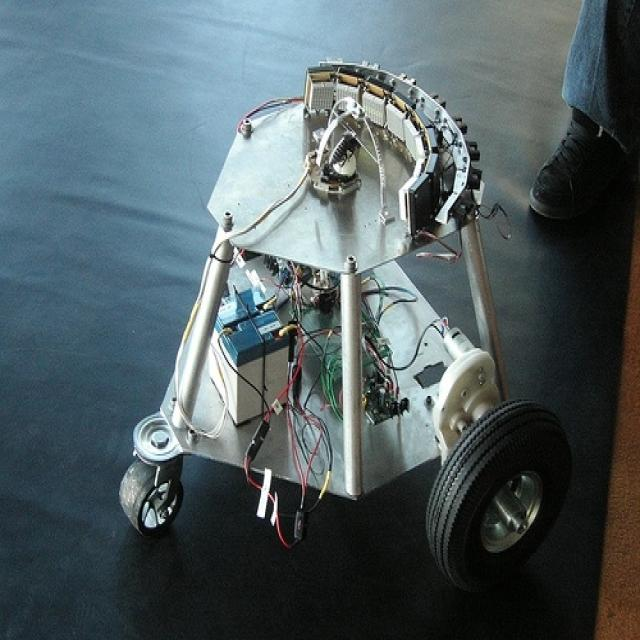E-waste: (113, 49, 508, 536)
